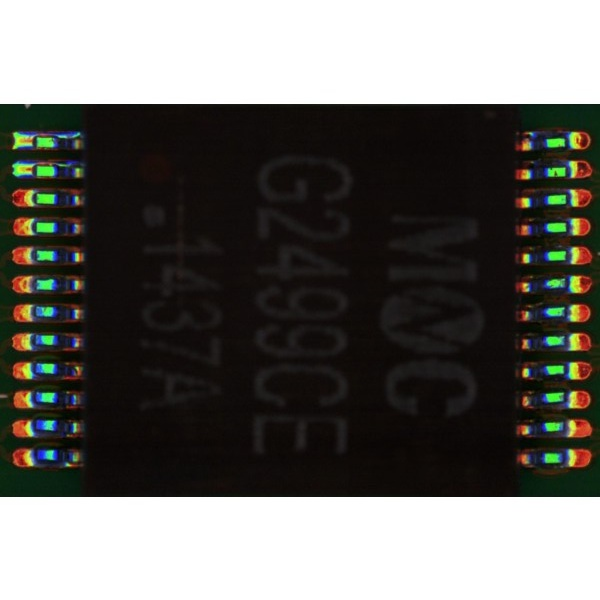Bad_qiaojiao: (36, 131, 83, 137), (36, 160, 72, 164)
